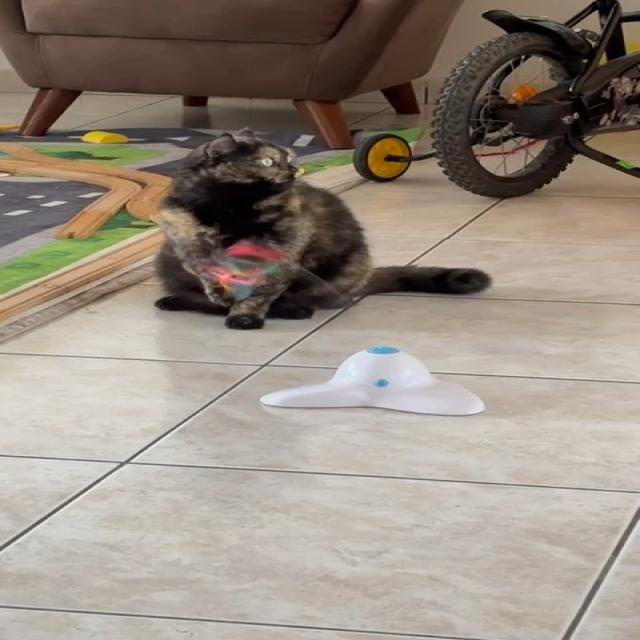authorized: (152, 127, 491, 330)
